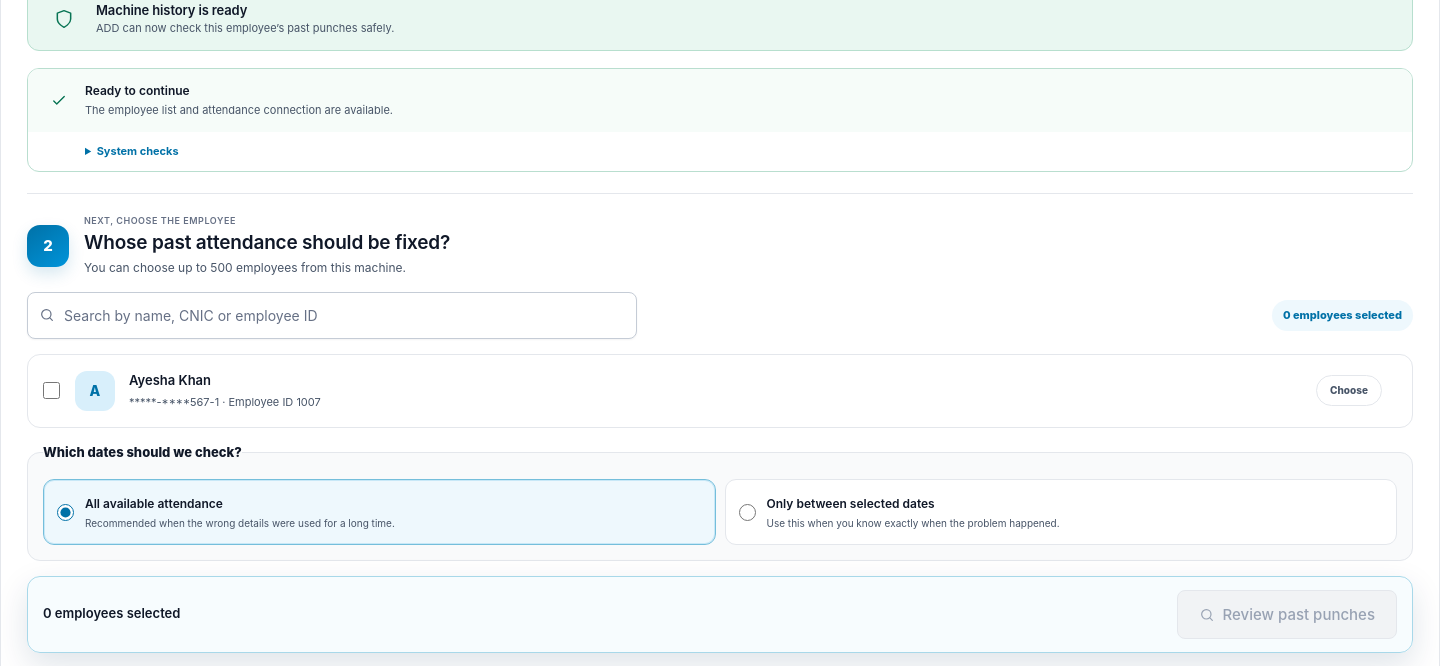
Test: Employee repair workspace › guides an operator in plain language while sending only stable repair keys
(page scrolled)
Click the checkbox named "Select Ayesha Khan": (52, 391) [43, 382, 60, 399]
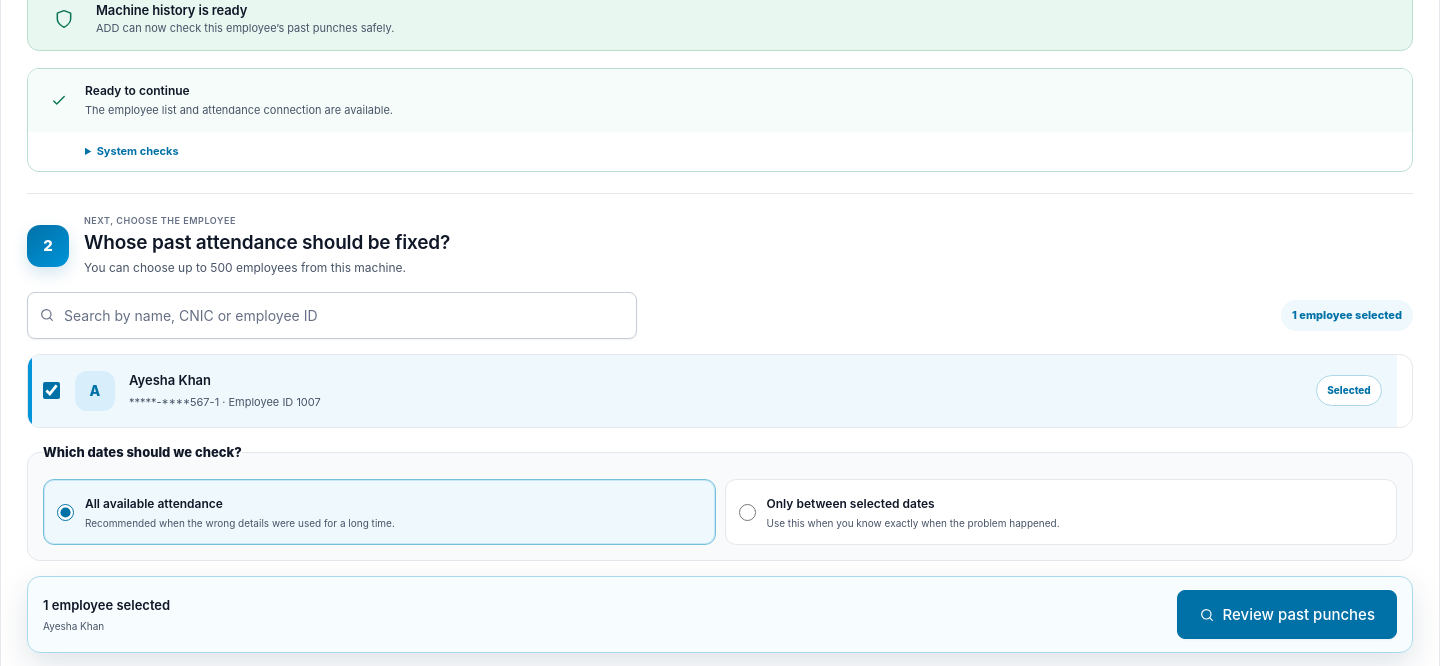
Click the button "Review past punches": (1287, 615) [1176, 590, 1397, 639]
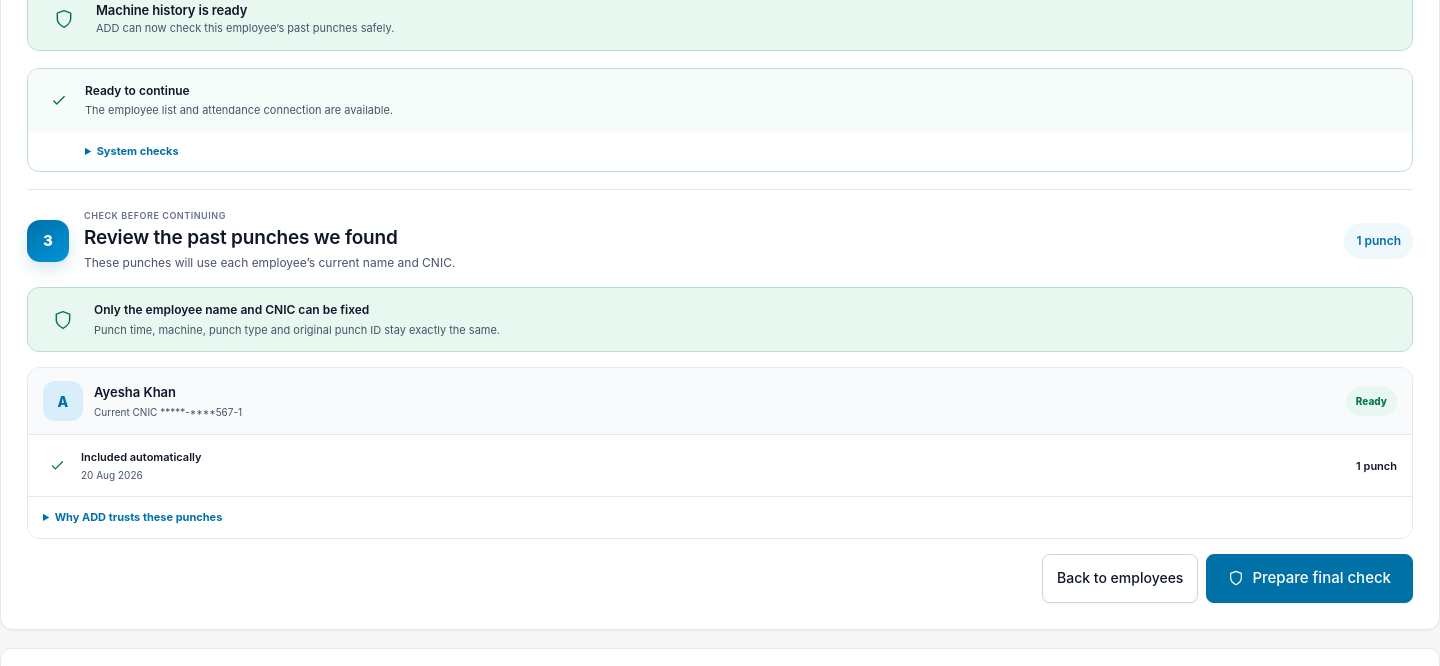
Expected: the heading "Review the past punches we found" is shown, [84, 226, 398, 249]
Expected: the text "Only the employee name and CNIC can be fixed" is shown, [94, 302, 369, 317]
Click the button "Prepare final check": (1310, 578) [1206, 554, 1413, 603]
(page scrolled)
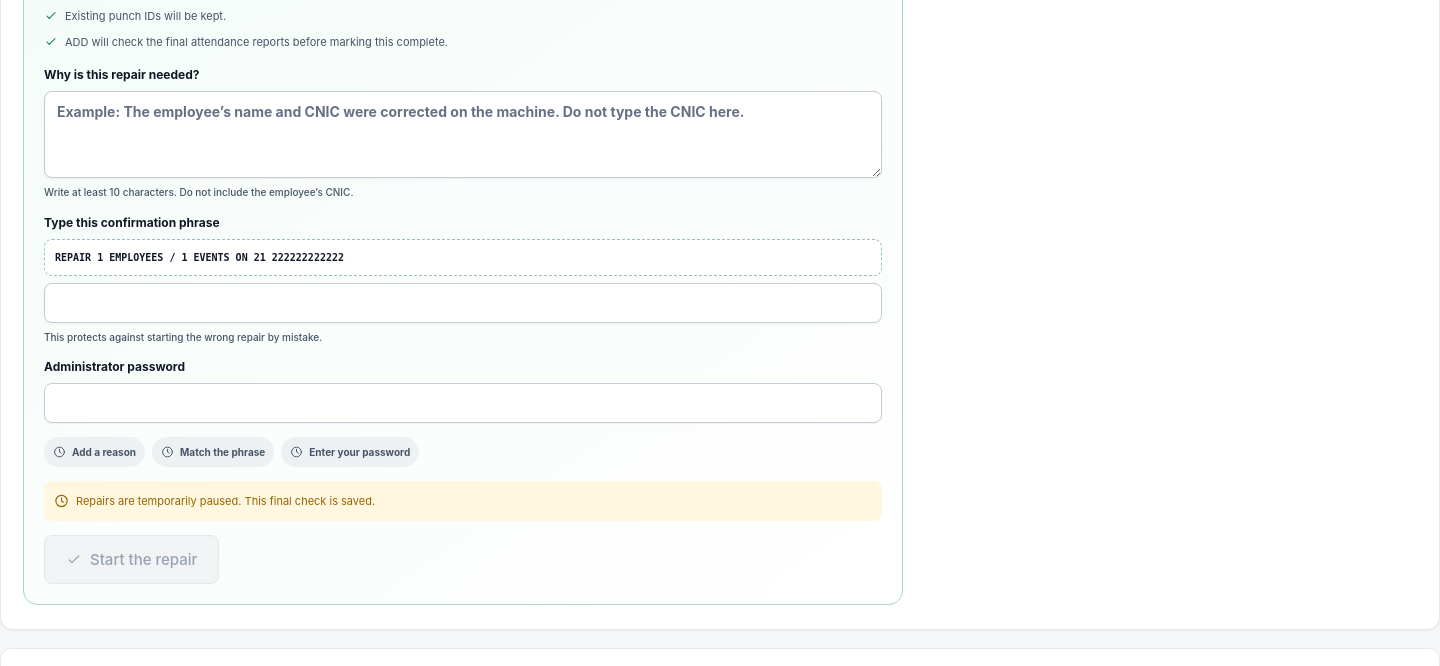
Expected: the button "Start the repair" is disabled, [44, 535, 219, 584]
